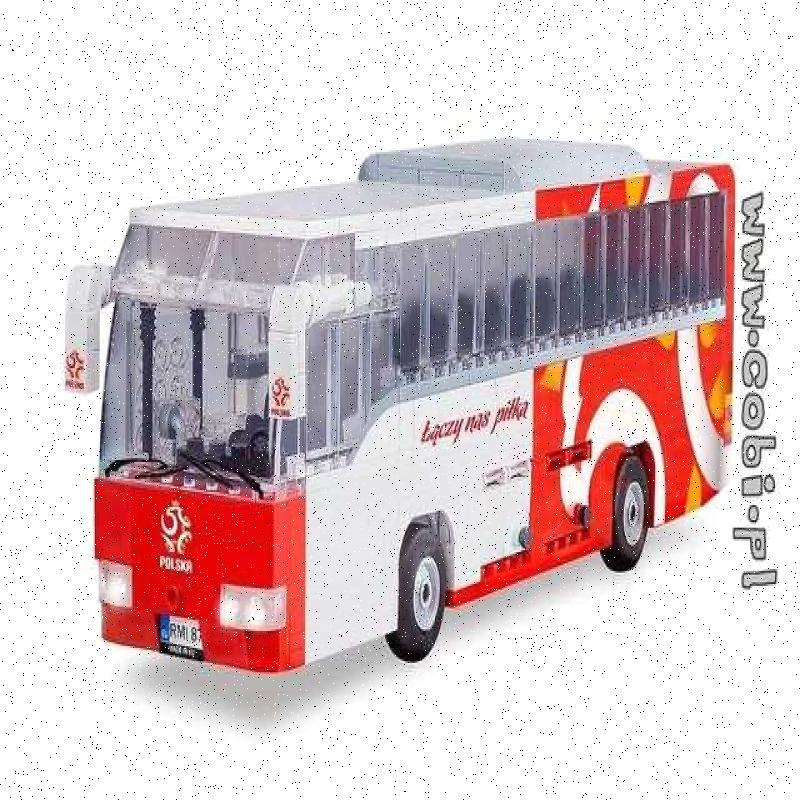bus: (74, 137, 796, 711)
